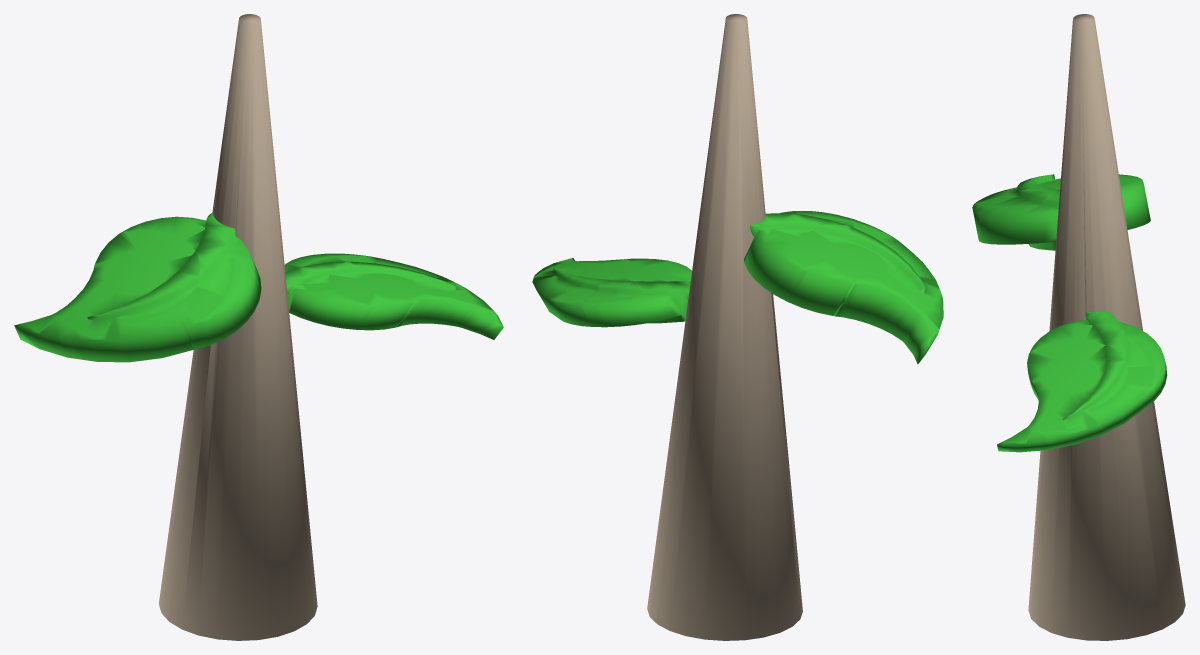
The model's file is level2.glb.
3 views of the same model, side by side, from view 1: azimuth 30°, elevation 25°; view 2: azimuth 150°, elevation 25°; view 3: azimuth 270°, elevation 25° (orthographic).
Visible parts, largest first — view 1: obj_0.001, obj_0.003; view 2: obj_0.001, obj_0.003; view 3: obj_0.001, obj_0.003.
Boxes of the visible parts, x1,y1,x2,y2 form: obj_0.001: [159, 14, 317, 640]; obj_0.003: [14, 213, 503, 362]; obj_0.001: [647, 14, 802, 640]; obj_0.003: [532, 211, 943, 364]; obj_0.001: [1028, 14, 1185, 640]; obj_0.003: [972, 174, 1167, 452].
Bounding box in the file's own units: 47 × 62.26 × 20.34.
